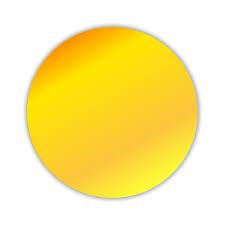yellow_circle: (11, 17, 212, 209)
